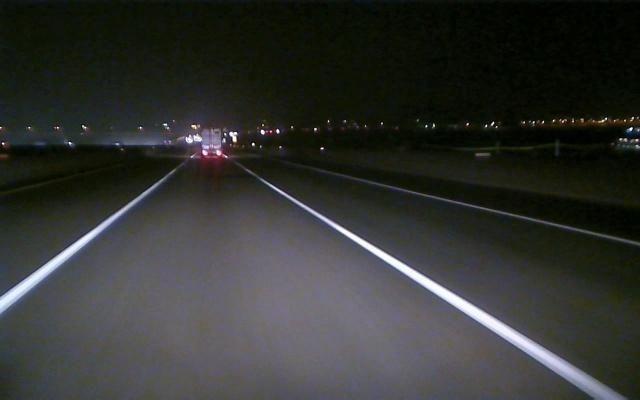lane: (259, 178, 623, 396), (3, 181, 161, 312), (355, 178, 640, 247)
